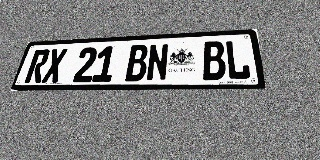1: (92, 46, 117, 82)
2: (73, 47, 98, 82)
B: (202, 41, 226, 80), (125, 44, 149, 82)
L: (225, 40, 251, 80)
N: (146, 43, 169, 81)
R: (24, 49, 51, 83)
X: (41, 48, 68, 83)
